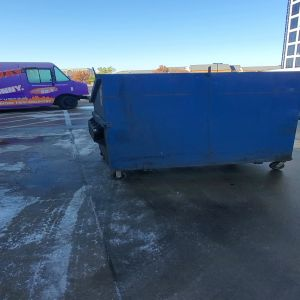Dumpster: (88, 72, 300, 182)
